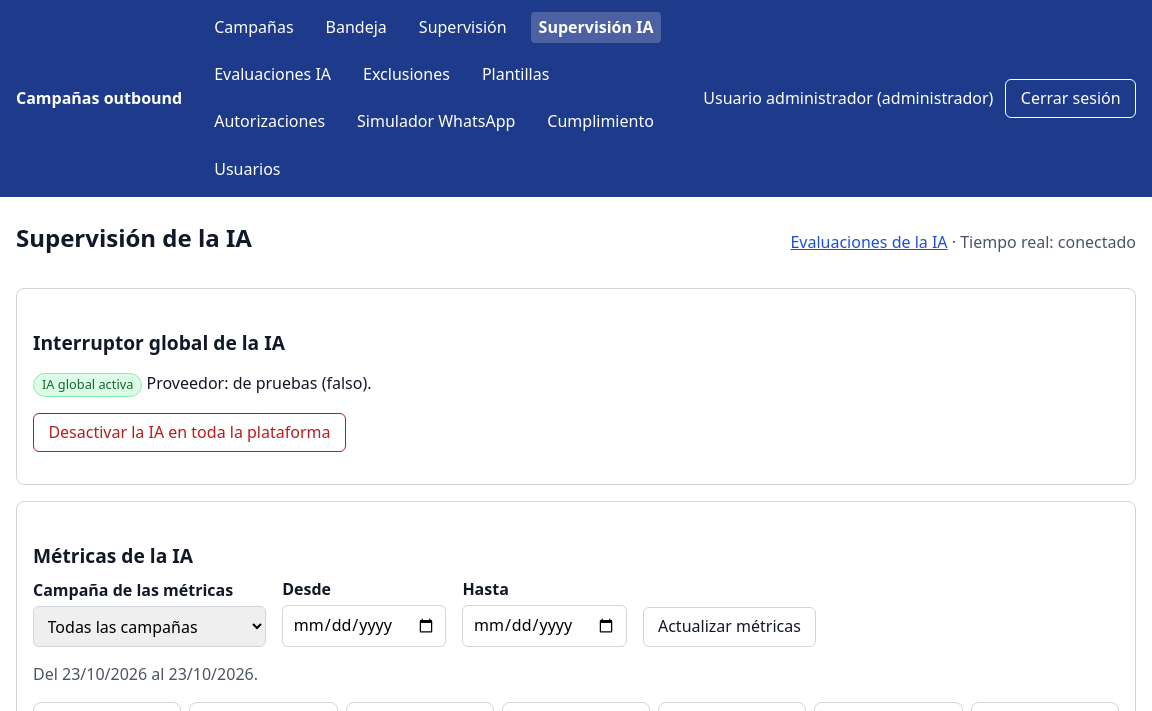
it: Interruptor global de la IA (kill switch global) › el administrador lo desactiva con confirmación y se envía ia_activa=false
The width and height of the screenshot is (1152, 711).
Check: the text "IA global activa" is shown, box [33, 373, 142, 396]
Click the button "Desactivar la IA en toda la plataforma" at (189, 432), box [33, 412, 346, 452]
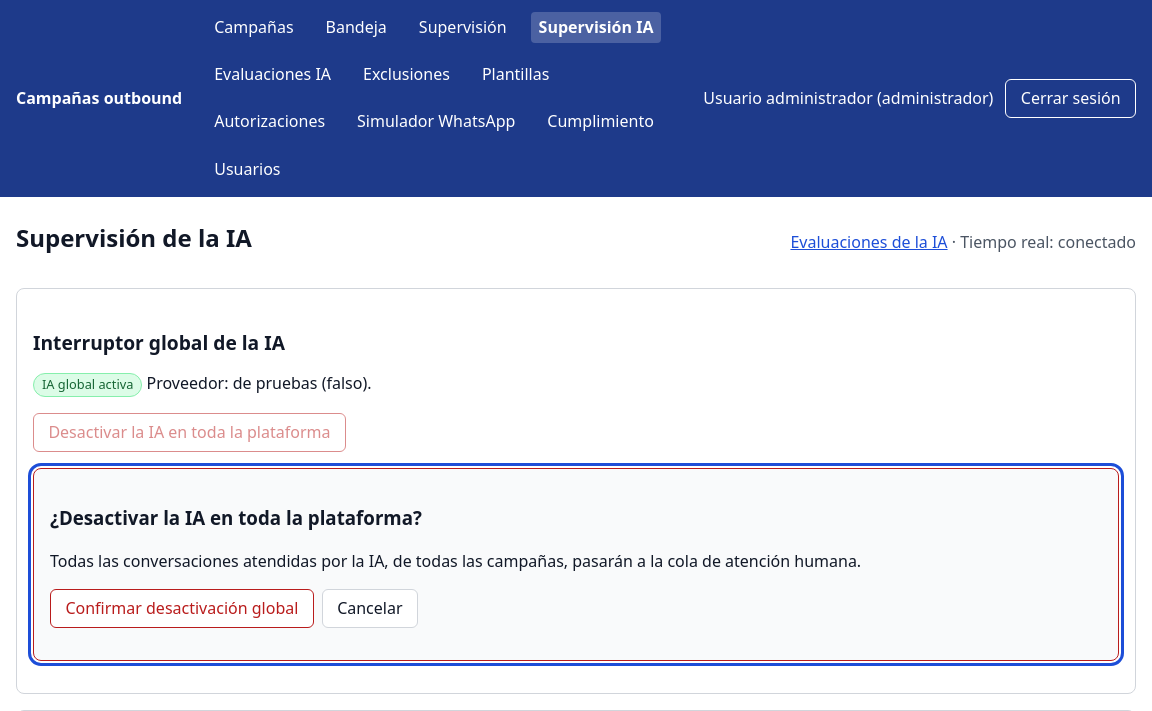
Click the button "Cancelar" at (370, 609), box [322, 589, 418, 628]
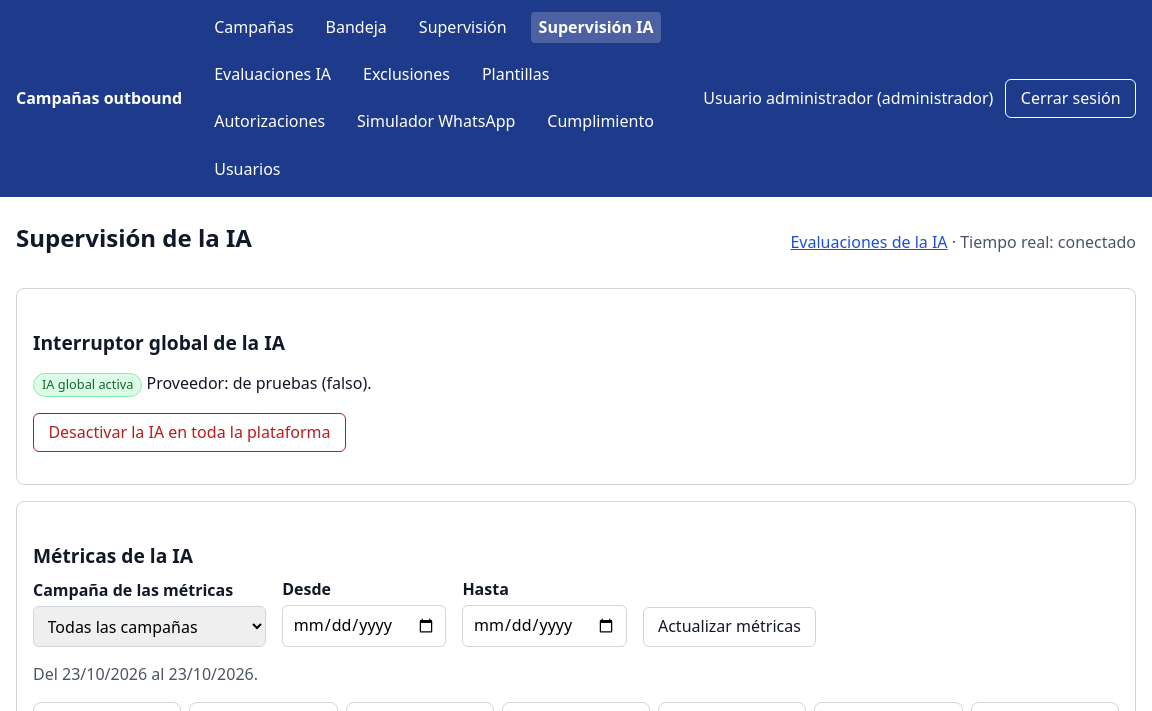
Click the button "Desactivar la IA en toda la plataforma" at (189, 432), box [33, 412, 346, 452]
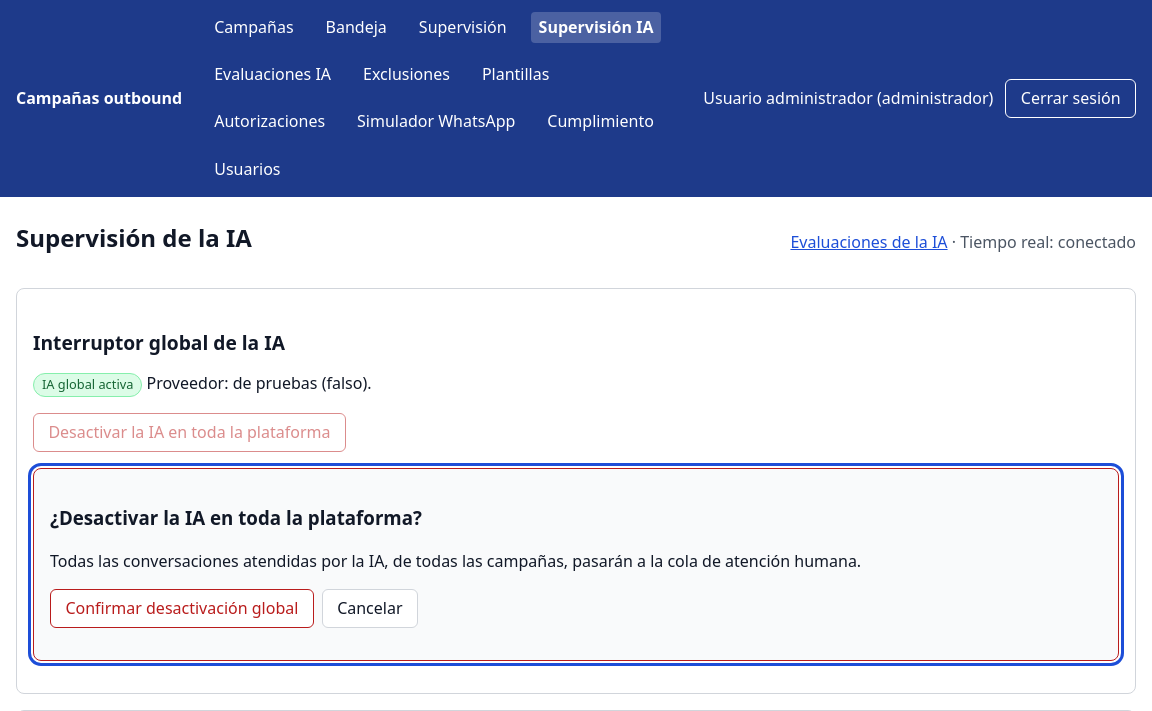
Click the button "Confirmar desactivación global" at (182, 609), box [50, 589, 314, 628]
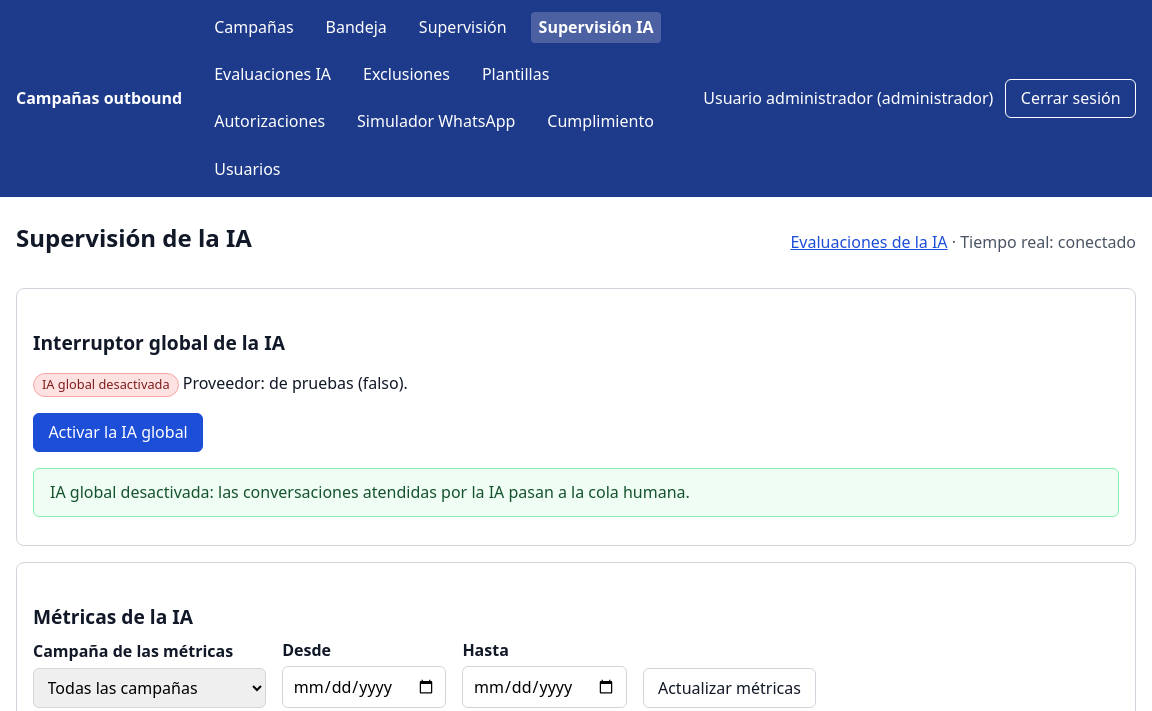
Check: the text "IA global desactivada" is shown, box [33, 373, 179, 396]
